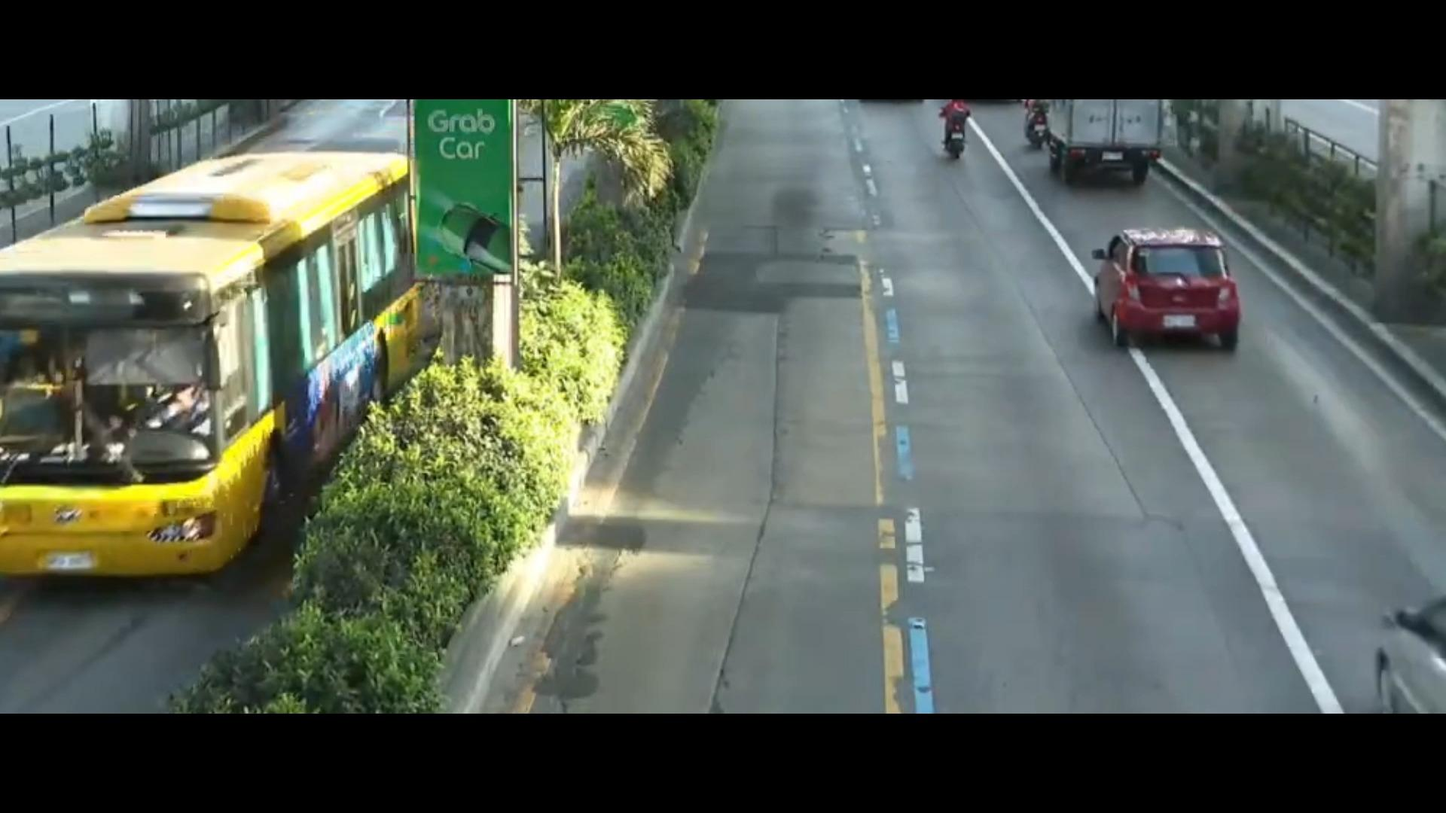Bus: (0, 119, 409, 610)
Motorcycle: (994, 100, 1057, 146), (938, 96, 985, 146)
Sedan: (1043, 194, 1295, 372)
Truck: (1015, 101, 1182, 189)
